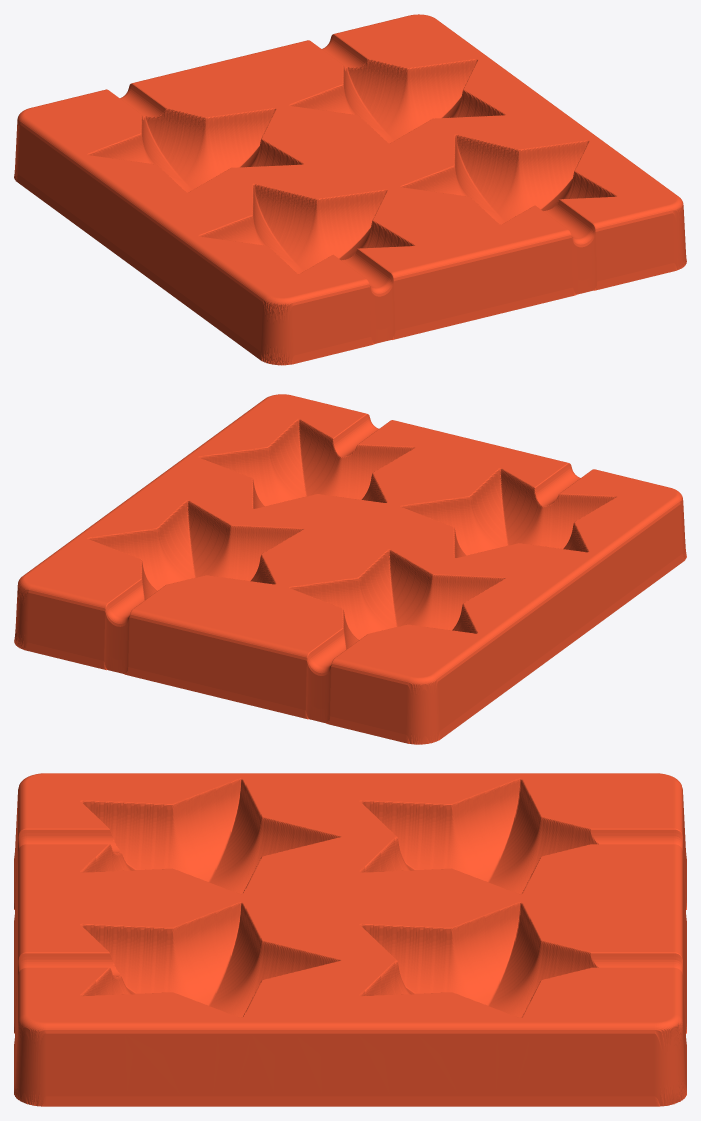
Rendered from mold.glb.
The picture shows the model from 3 angles, top to bottom: view 1: azimuth 30°, elevation 25°; view 2: azimuth 150°, elevation 25°; view 3: azimuth 270°, elevation 25°; orthographic projection. The views are drawn at different scales.
Visible parts, largest first — view 1: geometry_0; view 2: geometry_0; view 3: geometry_0.
Part boxes in pixels (x1,y1,x2,y2): geometry_0: (14, 14, 686, 365); geometry_0: (14, 394, 686, 744); geometry_0: (14, 773, 686, 1106).
Size of the model in its own units: 0.1726 by 0.0245 by 0.1893.
